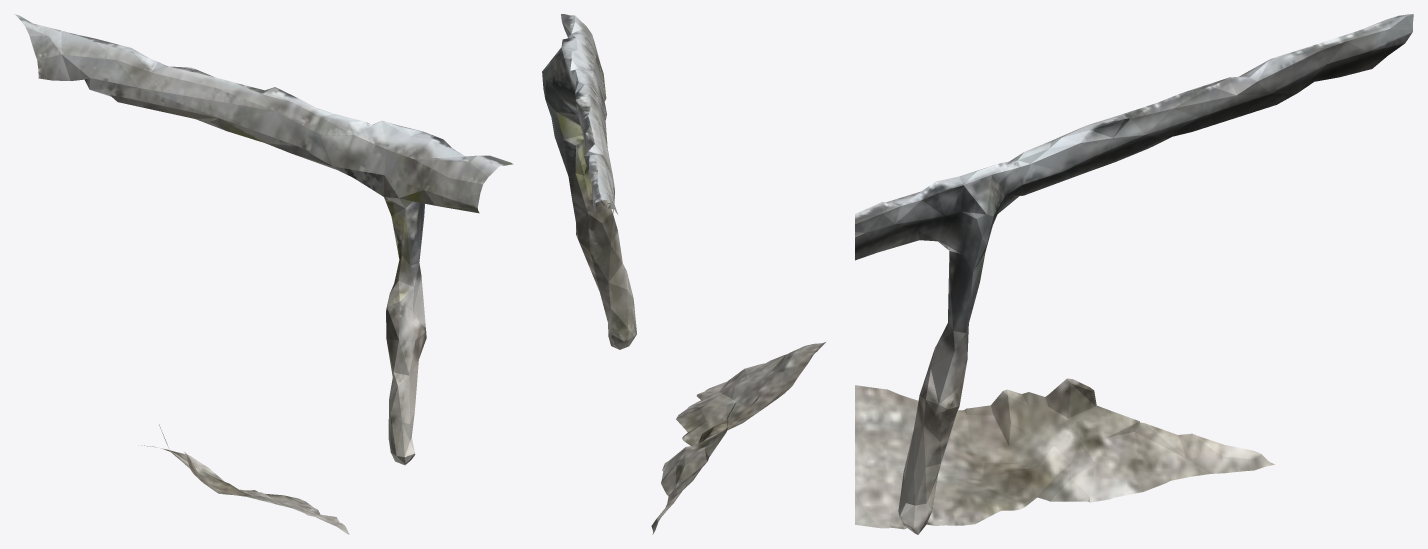
3 renders of one model, left to right at view 1: azimuth 30°, elevation 25°; view 2: azimuth 150°, elevation 25°; view 3: azimuth 270°, elevation 25°, orthographic. The views are drawn at different scales.
Bounding box in the file's own units: 1.42 × 1.9 × 2.14.
Materials: 1 (1 with a texture image).
